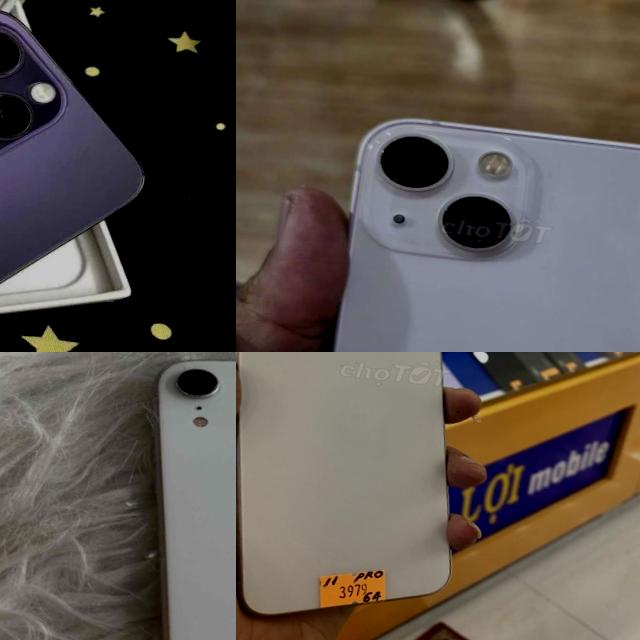gen_11: (236, 352, 450, 613)
gen_12_13: (290, 99, 640, 352)
gen_14: (0, 0, 160, 352)
gen_x_xs: (154, 359, 236, 640)
